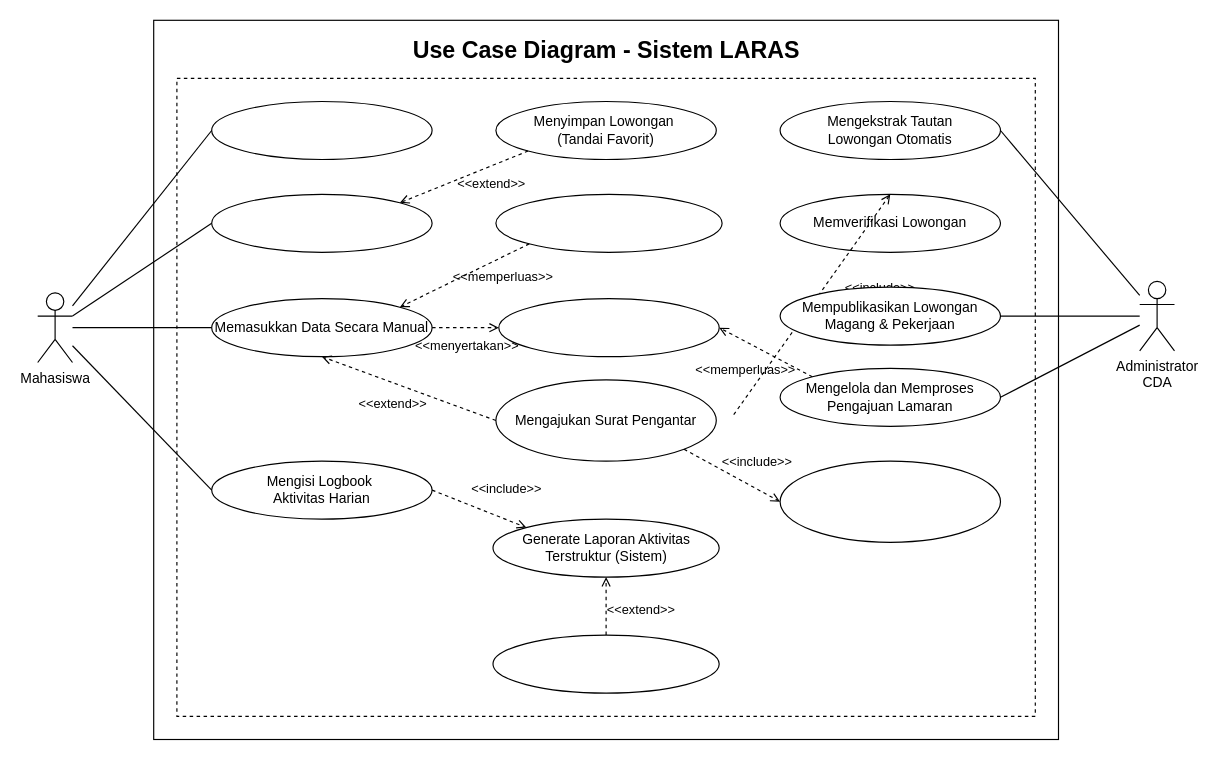
This 1218x760 diagram has some shape labels left out. Each missing label, with the centre of its shape:
"Generate Surat Pengantar dan Rekomendasi Berdasarkan Profil (Sistem)" goes at [889,501].
"Memasukkan Data Lowongan" goes at [608,327].
"Mencari Lowongan" goes at [321,222].
"Mengelola Profil & CV" goes at [321,130].
"Mengevaluasi Kecocokan dari Profil, CV & Minat (AI)" goes at [608,222].
"Mengunduh Format Aktivitas Terstruktur" goes at [605,663].
